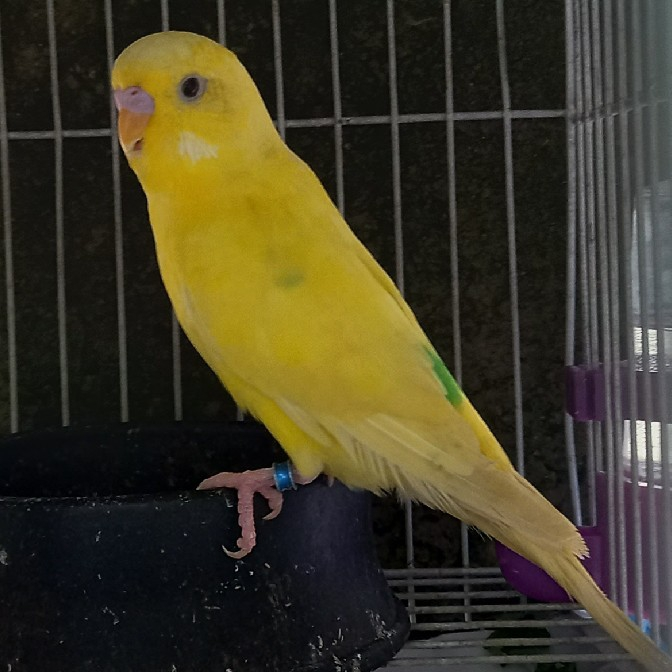Not_a_Chicken: (88, 20, 652, 653)
